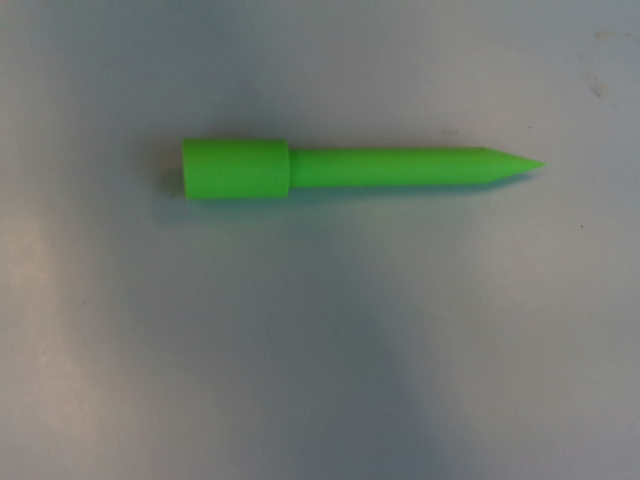Probe: (174, 131, 559, 207)
